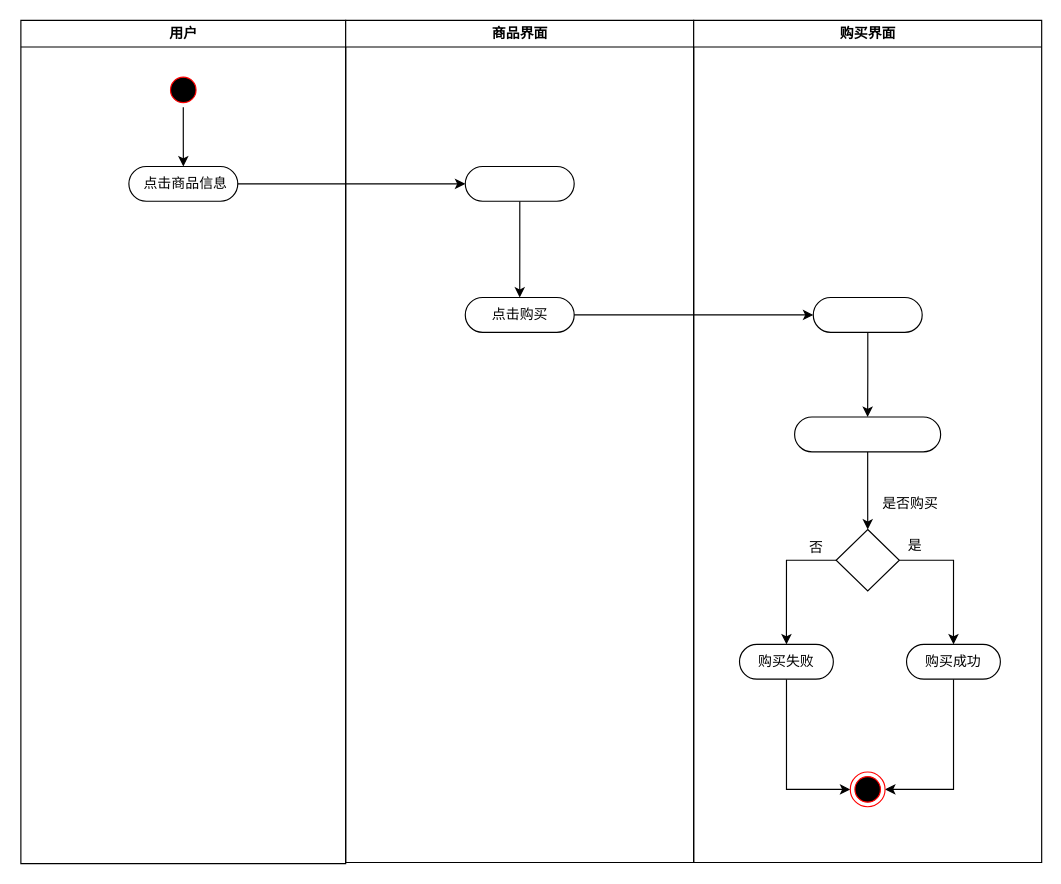
Image size: 1061x884. Some labels were removed from this diagram. The shapes that lost their labels are listed below. From the top down, each one's centre as x and y in pixels, then its label:
At (x=519, y=183): "展示商品信息".
At (x=867, y=314): "展示购买信息".
At (x=867, y=434): "确定交易时间地点".
